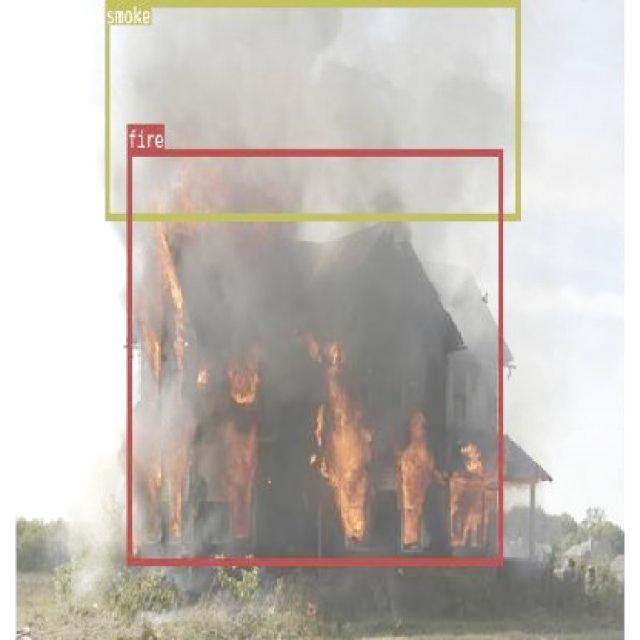fire: (125, 148, 502, 564)
smoke: (104, 0, 518, 218)
